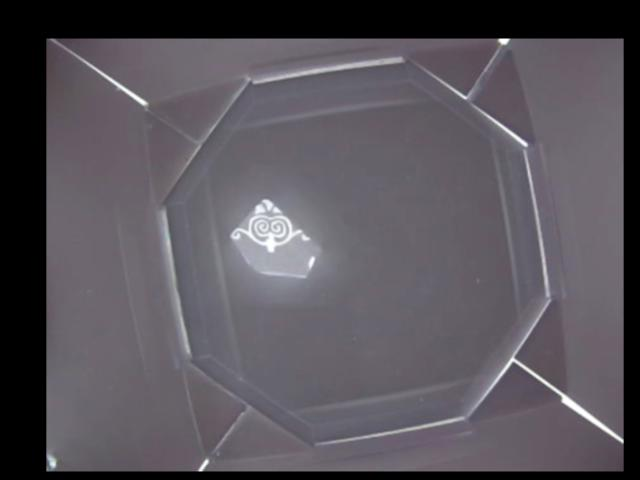China: (233, 199, 317, 283)
